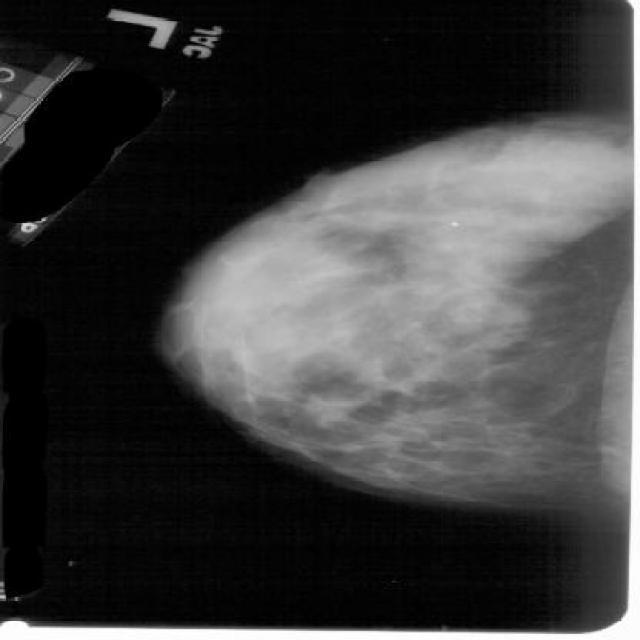tumor: (220, 110, 574, 448)
